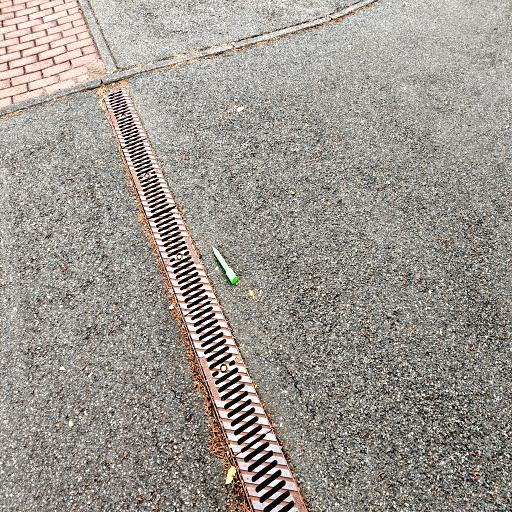Probe-Detection: (212, 247, 237, 284)
